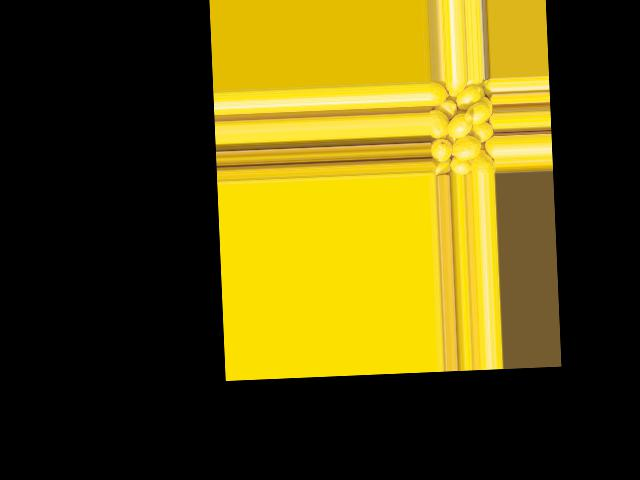lemon: (467, 99, 492, 123)
